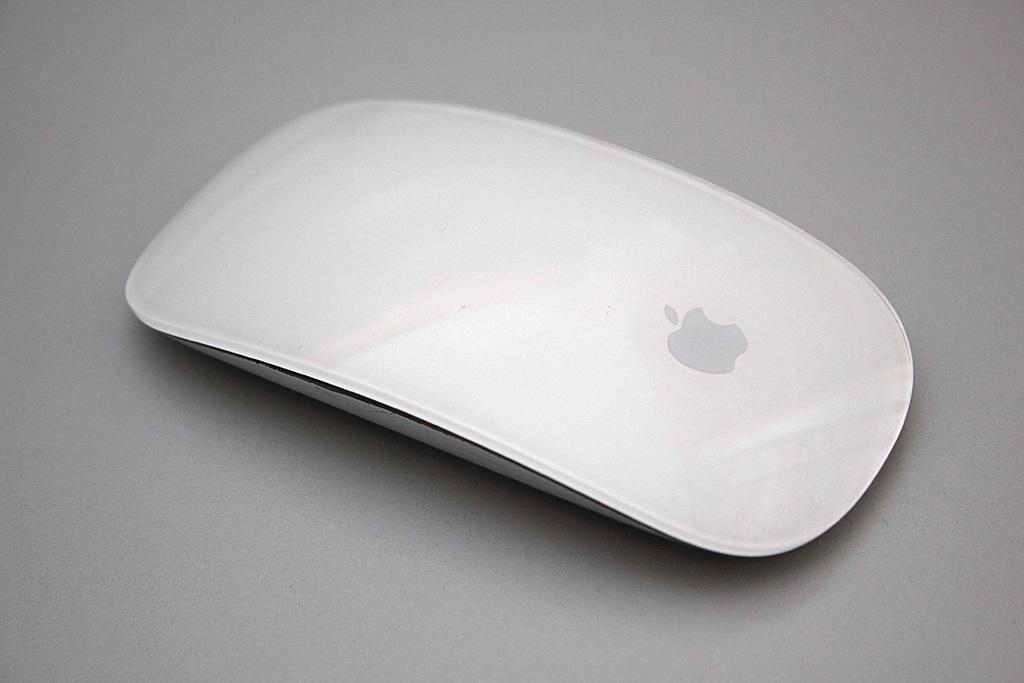Computer-mouse: (122, 110, 915, 554)
